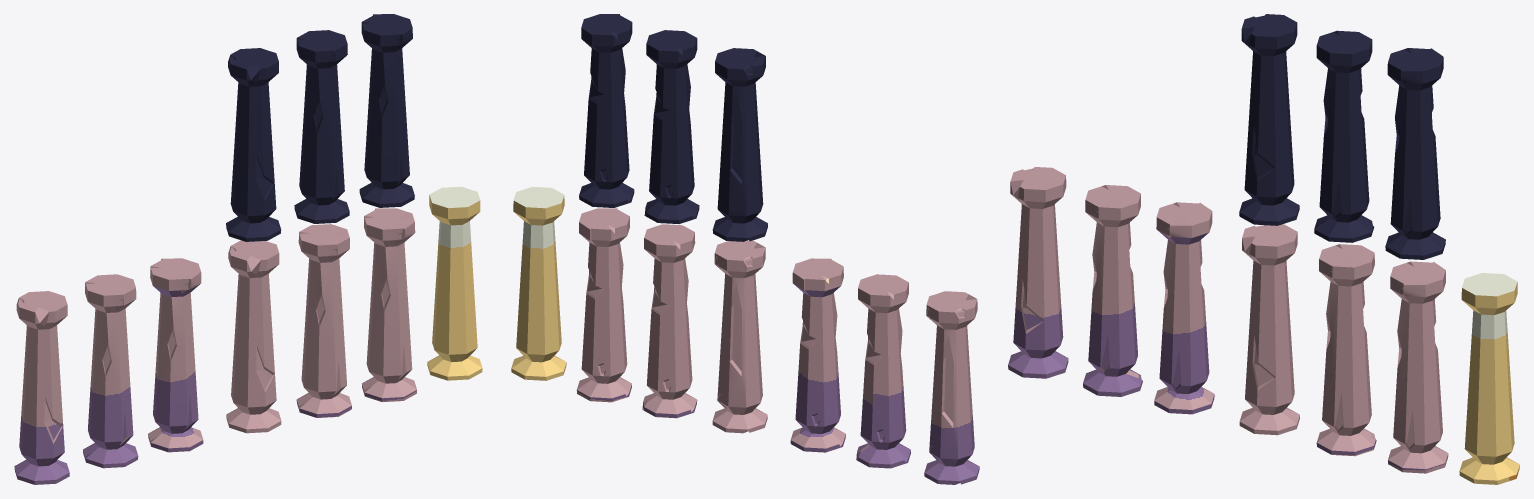
The model's file is piliers_set_02_texture.fbx.
3 renders of one model, left to right at view 1: azimuth 30°, elevation 25°; view 2: azimuth 150°, elevation 25°; view 3: azimuth 330°, elevation 25°, orthographic. The views are drawn at different scales.
Parts seen in each view (by area): view 1: pCylinder2, pCylinder10, pCylinder1, pCylinder9, pCylinder5, pCylinder3, pCylinder4, pCylinder6, pCylinder7, pCylinder8; view 2: pCylinder2, pCylinder10, pCylinder5, pCylinder9, pCylinder6, pCylinder3, pCylinder1, pCylinder4, pCylinder7, pCylinder8; view 3: pCylinder2, pCylinder10, pCylinder5, pCylinder1, pCylinder9, pCylinder7, pCylinder4, pCylinder6, pCylinder3, pCylinder8.
Boxes of the visible parts, x1,y1,x2,y2 form: pCylinder2: (148, 258, 203, 452); pCylinder10: (359, 14, 414, 207); pCylinder1: (427, 186, 482, 380); pCylinder9: (294, 30, 349, 223); pCylinder5: (362, 208, 416, 402); pCylinder3: (83, 274, 138, 468); pCylinder4: (14, 291, 69, 484); pCylinder6: (296, 224, 351, 417); pCylinder7: (226, 48, 281, 241); pCylinder8: (226, 240, 281, 433); pCylinder2: (790, 258, 845, 452); pCylinder10: (579, 14, 634, 207); pCylinder5: (576, 208, 631, 402); pCylinder9: (644, 30, 699, 223); pCylinder6: (642, 224, 697, 418); pCylinder3: (856, 274, 910, 468); pCylinder1: (511, 186, 566, 380); pCylinder4: (924, 291, 979, 484); pCylinder7: (712, 48, 767, 241); pCylinder8: (712, 240, 767, 433); pCylinder2: (1154, 202, 1214, 414); pCylinder10: (1385, 48, 1445, 259); pCylinder5: (1388, 261, 1448, 473); pCylinder1: (1459, 273, 1519, 484); pCylinder9: (1314, 30, 1374, 242); pCylinder7: (1239, 14, 1299, 225); pCylinder4: (1008, 167, 1068, 378); pCylinder6: (1316, 244, 1376, 456); pCylinder3: (1083, 185, 1142, 396); pCylinder8: (1239, 224, 1299, 435).
Size of the model in its own units: 38.97 by 29.51 by 4.24.
2 materials, 2 textured.
